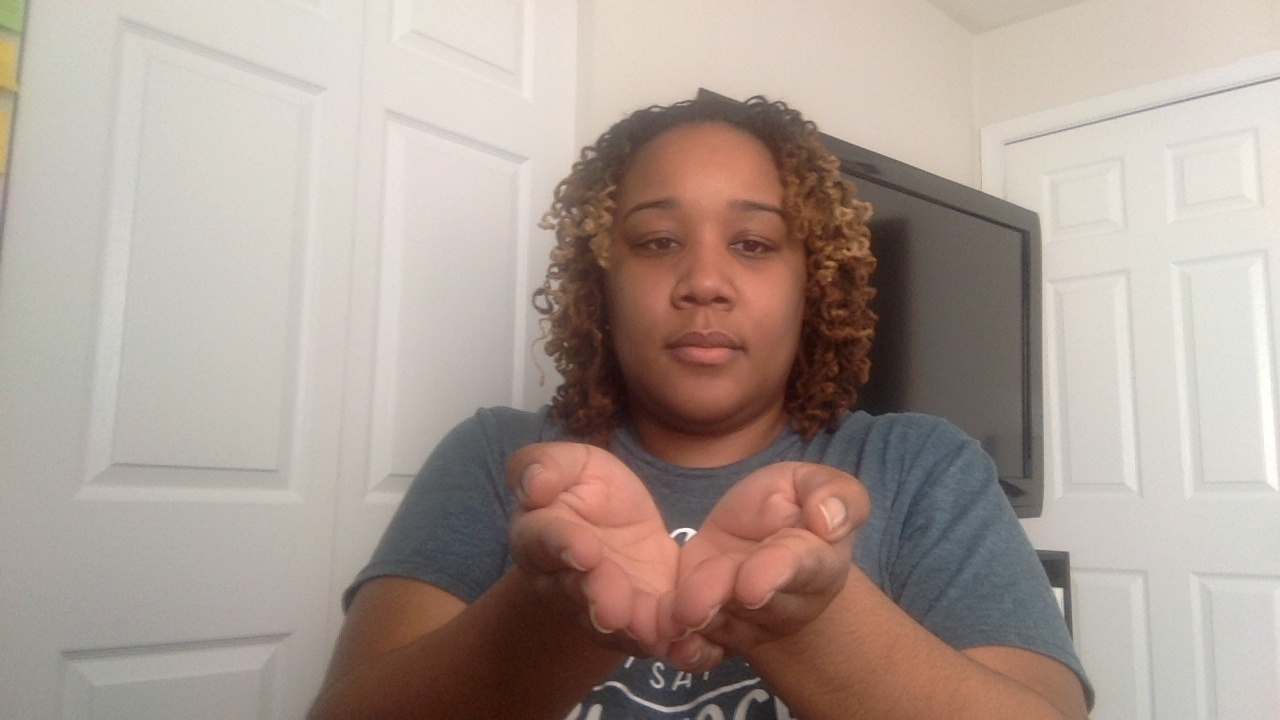book: (499, 431, 880, 679)
